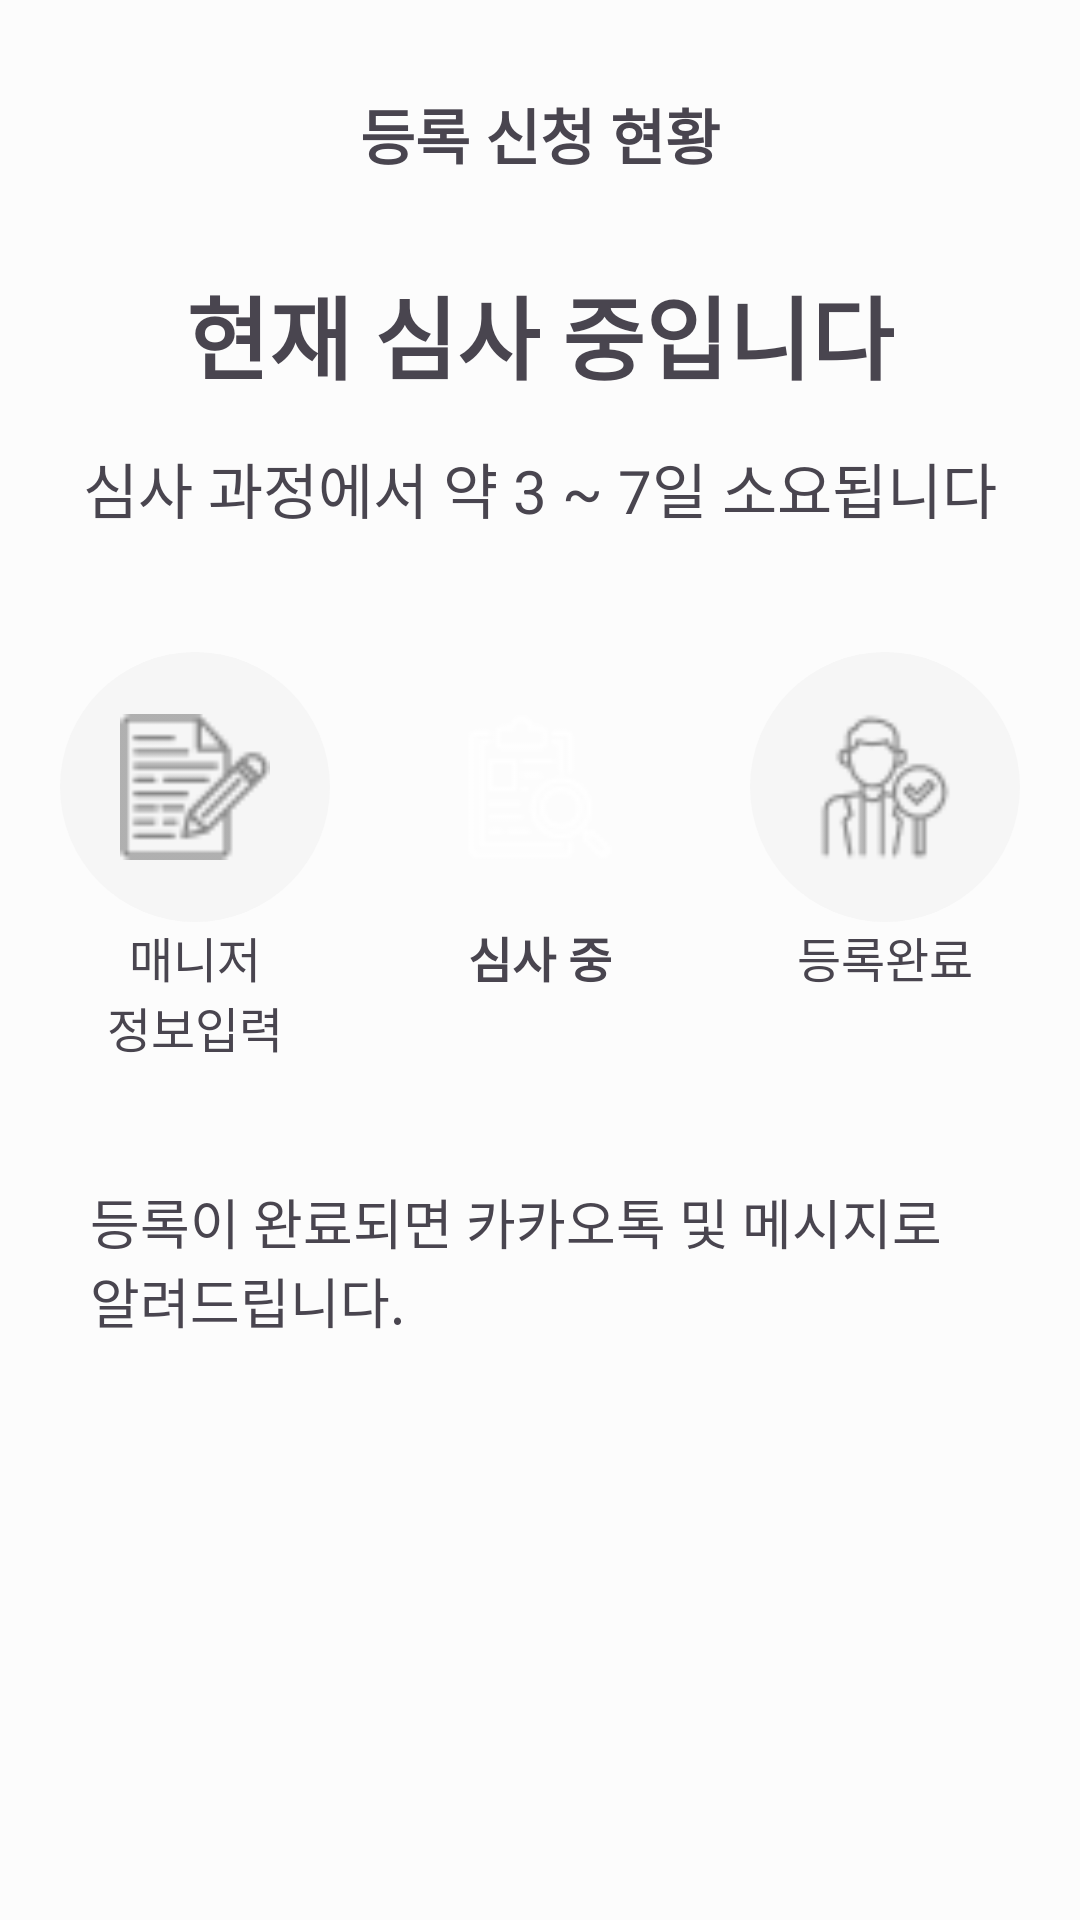

Screen size 1080 × 1920. Icon name, then its center in pixels as (x=x, y=y):
information: (x=195, y=787)
register complete: (x=885, y=787)
